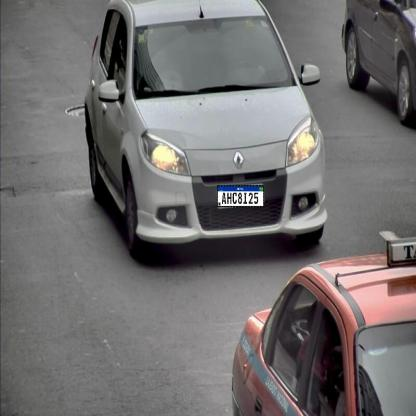PlacaM: (217, 185, 264, 207)
